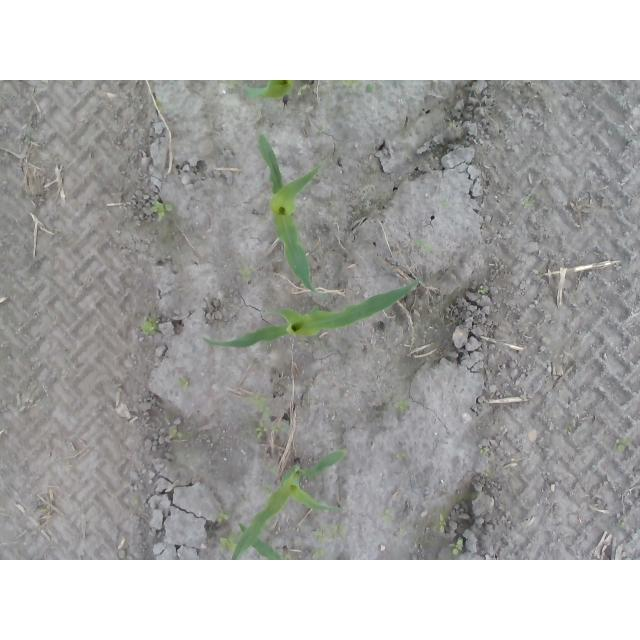Maize: (202, 275, 424, 349), (258, 133, 346, 301), (231, 448, 350, 560), (241, 80, 295, 100)
Weeds: (309, 525, 347, 560), (248, 393, 273, 420), (254, 421, 289, 440), (342, 81, 375, 95), (152, 201, 173, 222), (164, 420, 184, 441), (141, 316, 160, 337), (447, 537, 465, 557), (220, 533, 236, 551), (414, 239, 434, 253), (394, 398, 411, 413), (381, 510, 395, 527), (614, 439, 630, 453), (152, 99, 169, 112), (438, 513, 447, 535), (297, 84, 312, 97), (217, 511, 230, 525), (295, 342, 313, 350), (264, 485, 273, 501), (226, 83, 242, 92), (238, 269, 251, 280), (21, 136, 32, 149), (622, 552, 639, 560), (521, 195, 533, 206), (119, 550, 133, 559), (479, 445, 490, 456), (397, 451, 407, 463), (179, 379, 190, 389), (616, 520, 628, 529), (449, 120, 460, 129), (281, 553, 293, 560), (480, 286, 489, 295), (205, 112, 215, 120), (132, 497, 140, 506), (270, 466, 279, 474), (441, 200, 449, 208), (67, 462, 74, 470)
